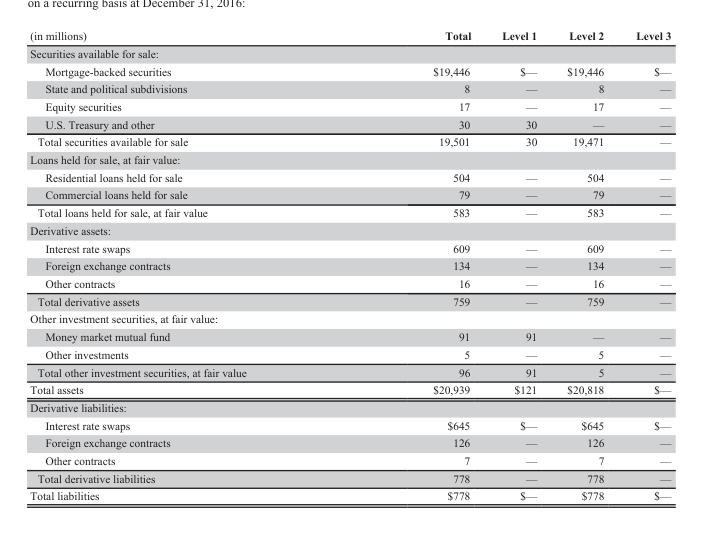table: (29, 28, 670, 501)
table column: (29, 28, 339, 501), (339, 28, 485, 501), (551, 28, 619, 501), (485, 28, 551, 501), (619, 28, 670, 501)
table column header: (29, 28, 670, 44)
table projected row header: (29, 150, 670, 168), (29, 309, 670, 327), (29, 44, 670, 61), (29, 221, 670, 238), (29, 398, 670, 415)
table row: (29, 61, 670, 79), (29, 79, 670, 97), (29, 114, 670, 132), (29, 132, 670, 150), (29, 150, 670, 168), (29, 185, 670, 203), (29, 203, 670, 221), (29, 238, 670, 256), (29, 256, 670, 274), (29, 274, 670, 292), (29, 309, 670, 327), (29, 327, 670, 345), (29, 362, 670, 380), (29, 380, 670, 398), (29, 415, 670, 433), (29, 433, 670, 451), (29, 451, 670, 469), (29, 44, 670, 61), (29, 97, 670, 114), (29, 168, 670, 185), (29, 221, 670, 238), (29, 292, 670, 309), (29, 345, 670, 362), (29, 398, 670, 415), (29, 469, 670, 486), (29, 28, 670, 44), (29, 486, 670, 501)
